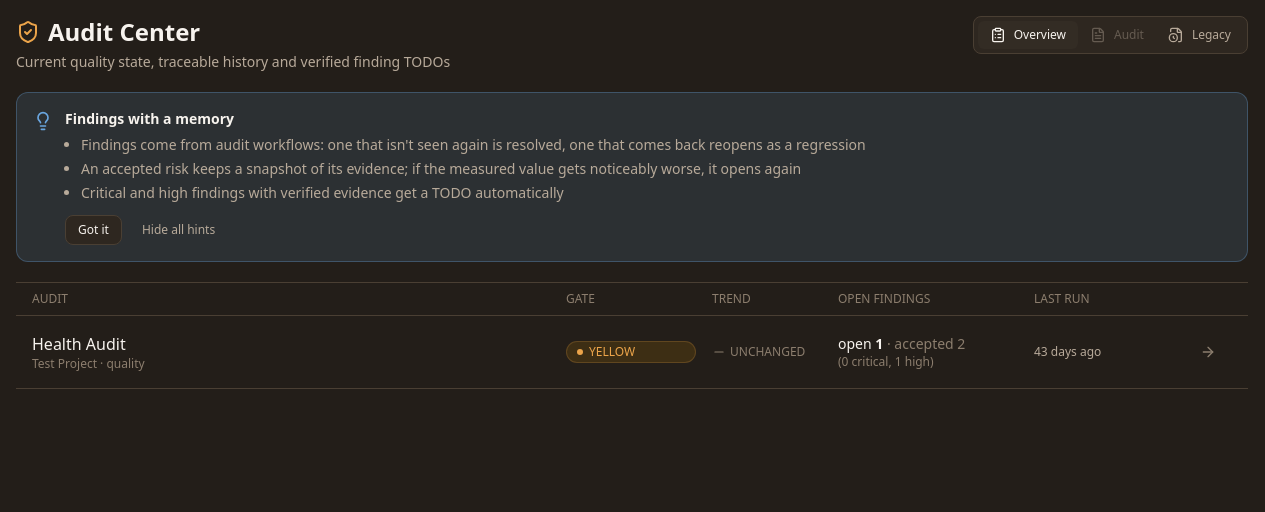
it: AuditCenter report head › shows what an older backend sends, without origin fields
Click the text "Health Audit": [79, 344] box [32, 333, 126, 355]
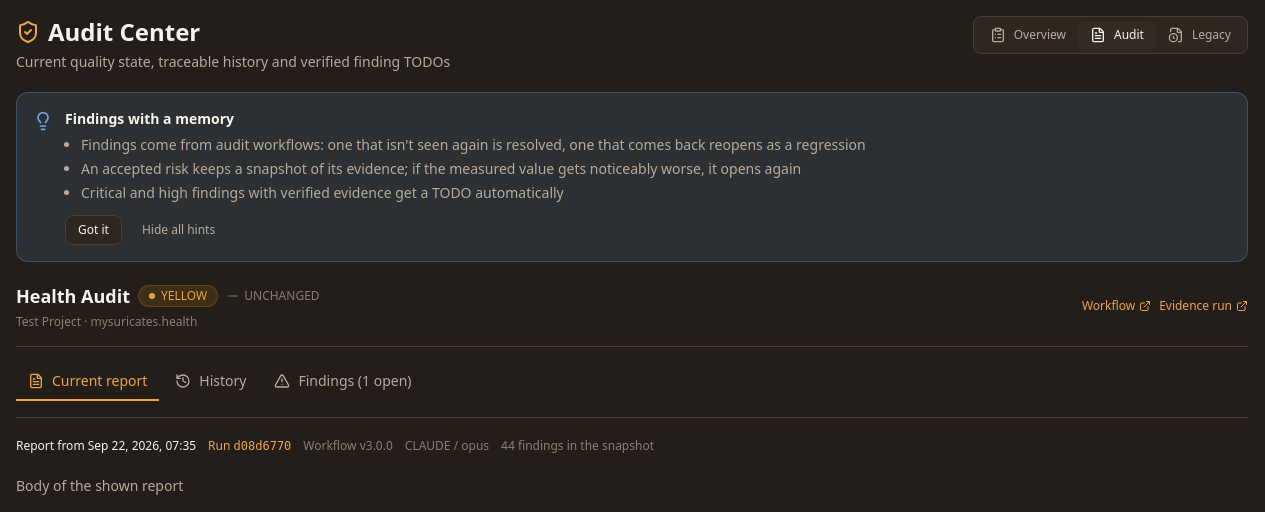
Check: the element with test id "report-origin" does not show "Definition #", box [16, 437, 654, 454]
Check: the link "Run d08d6770" is shown, box [208, 438, 291, 454]
